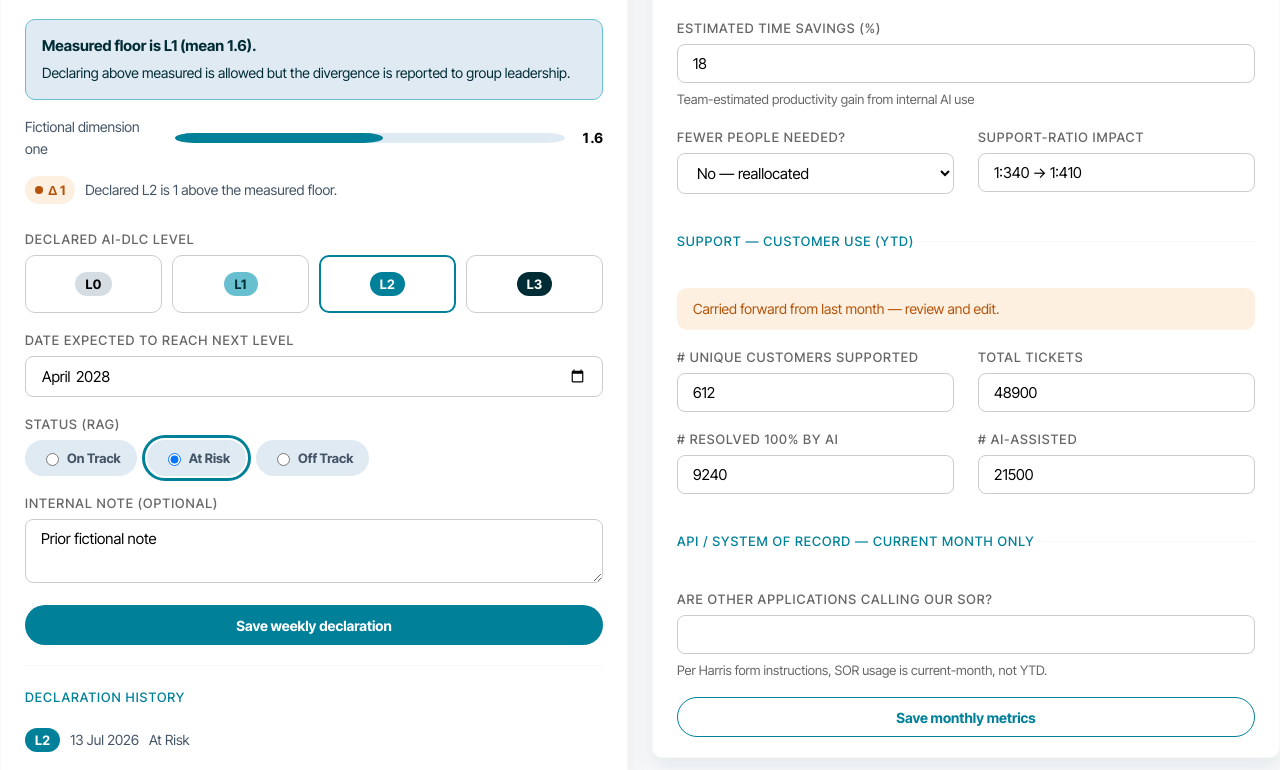
Test: BuFormsScreen (HAP-15; FR-047/FR-048; bu-forms mockup) › shows a 422-specific inline error on a validation failure
(page scrolled)
Click the button "Save weekly declaration" at point(314, 625), box [25,605,603,645]
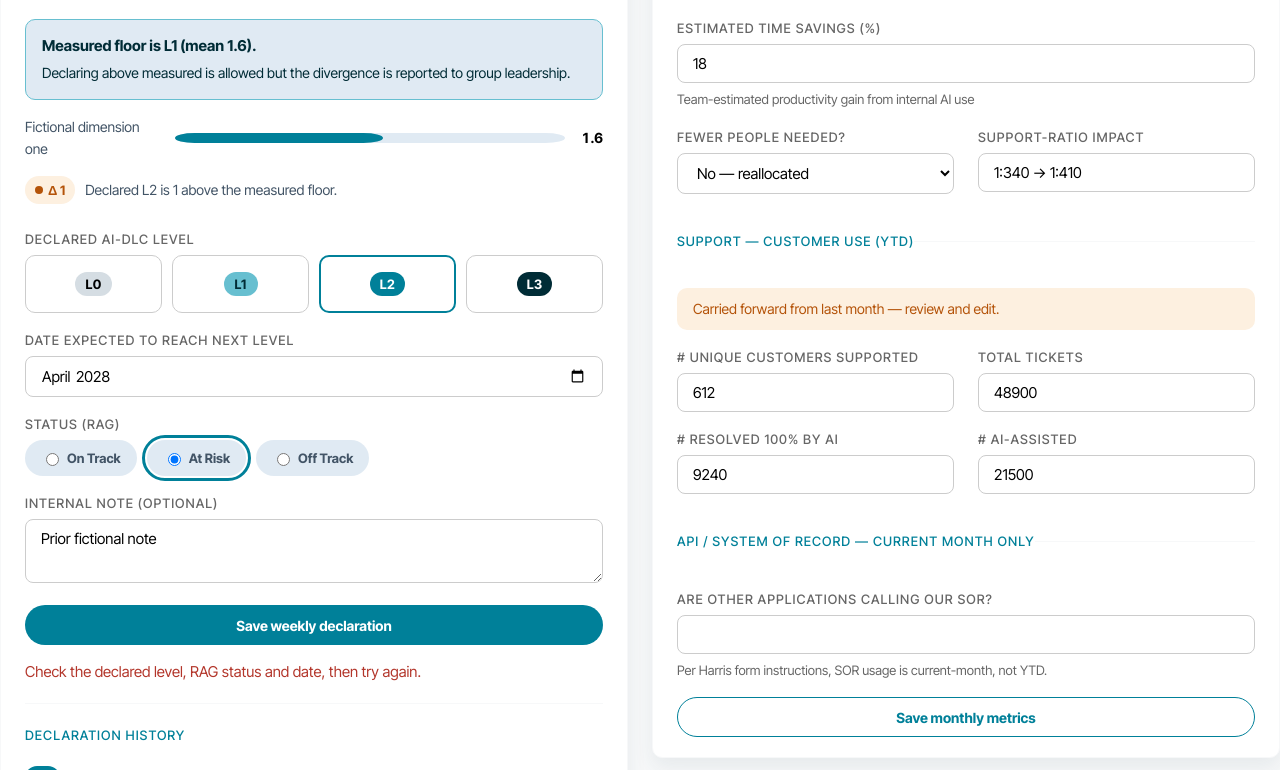
Expected: the text "Check the declared level, RAG status and date, then try again." is shown, [25,662,421,681]
